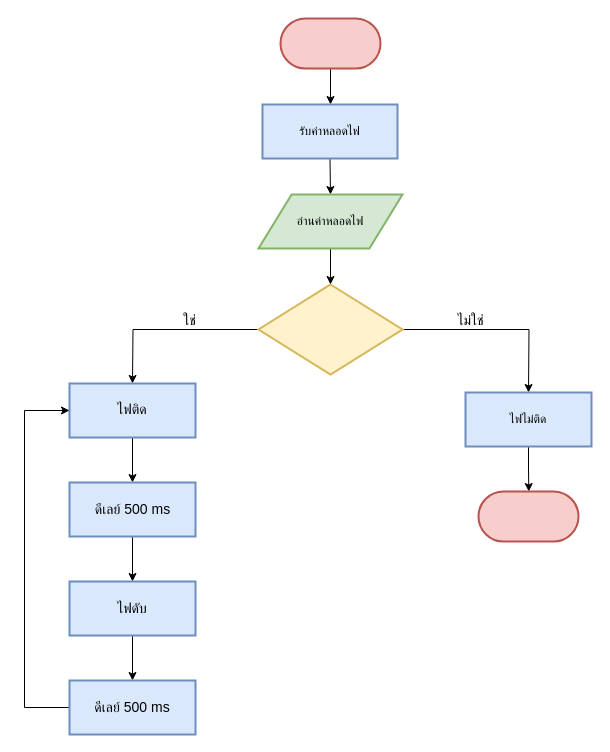
The diagram is 610 pixels wide and 752 high, and some of its shapes have lost their labels. Here are the shapes that lost their labels. From the top down, the centre of each, then its label:
At point (330, 43): "เริ่มต้น".
At point (330, 329): "เป็นหลอดไฟดวงที่ 2-13".
At point (528, 516): "จบ".
